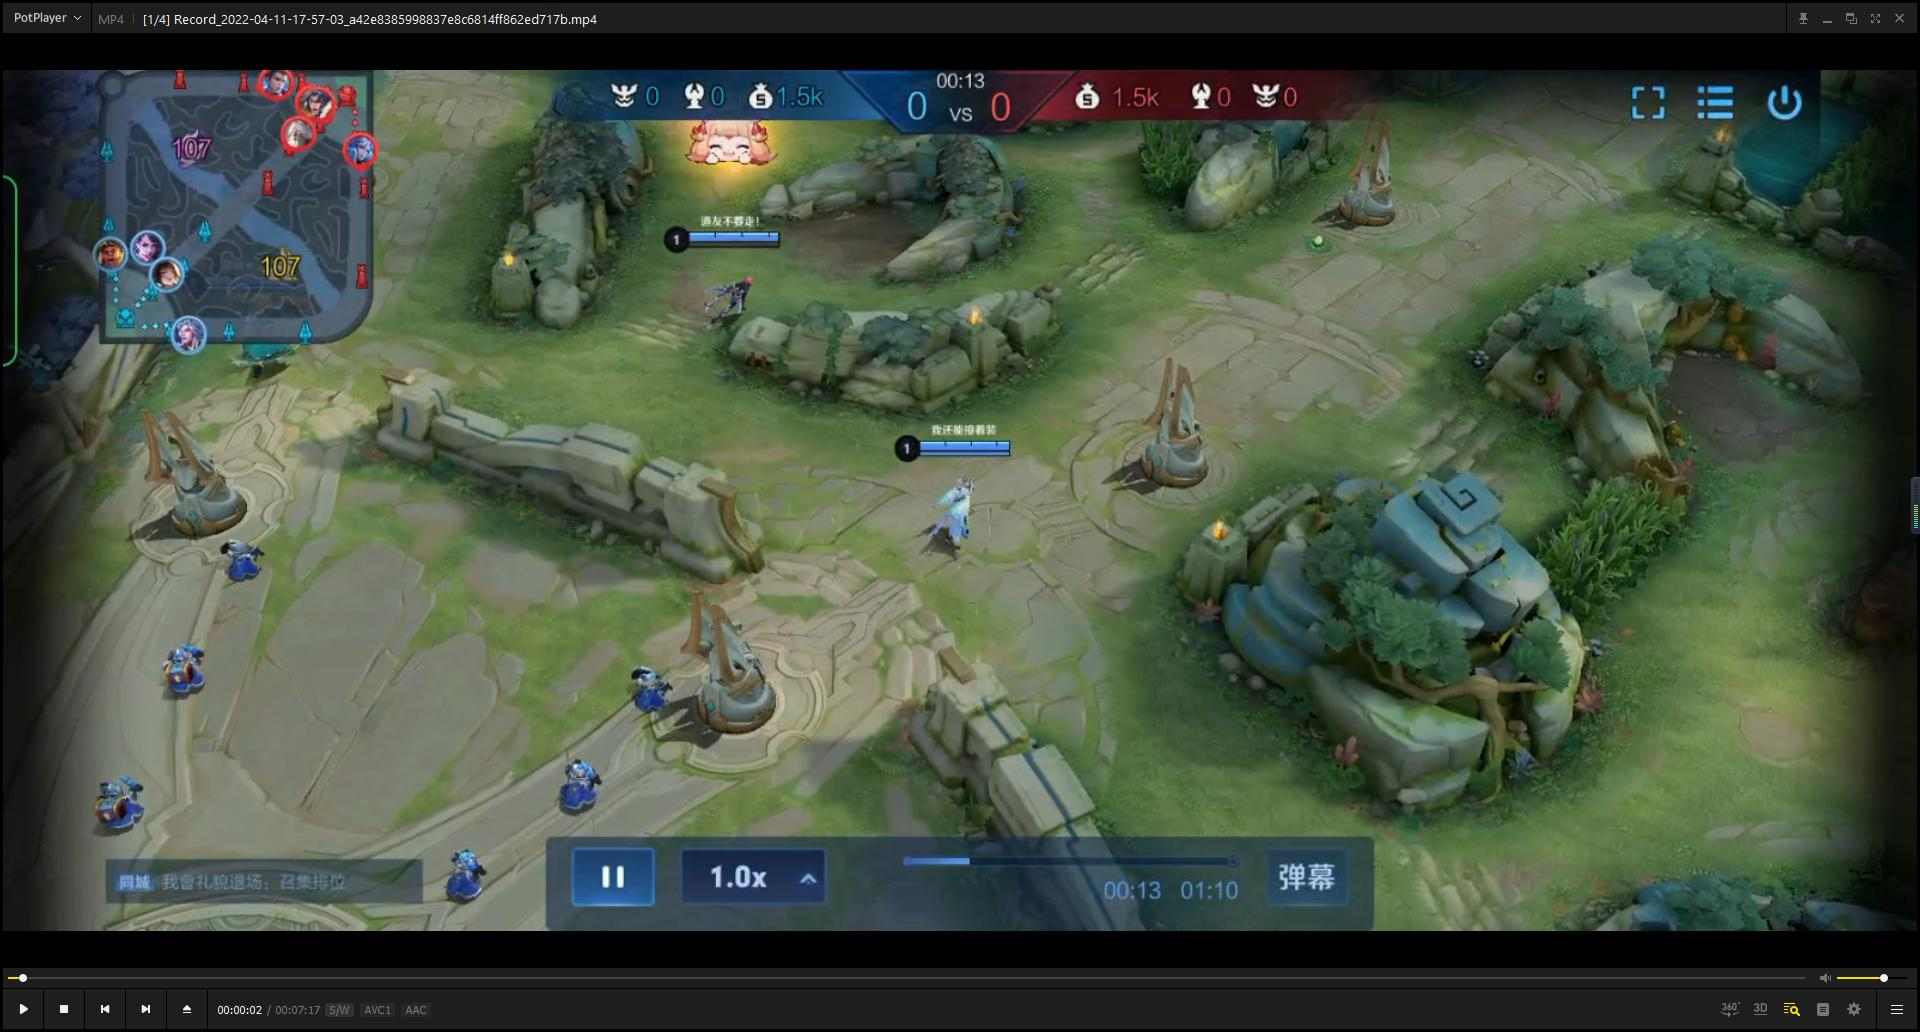Hero: (917, 468, 992, 562)
Solider: (524, 726, 637, 831), (197, 527, 306, 628), (81, 764, 186, 859), (131, 635, 233, 709), (424, 832, 508, 899), (606, 657, 684, 703)
Tower: (662, 558, 815, 763), (97, 394, 274, 557), (1092, 341, 1233, 526), (1314, 109, 1417, 267)
